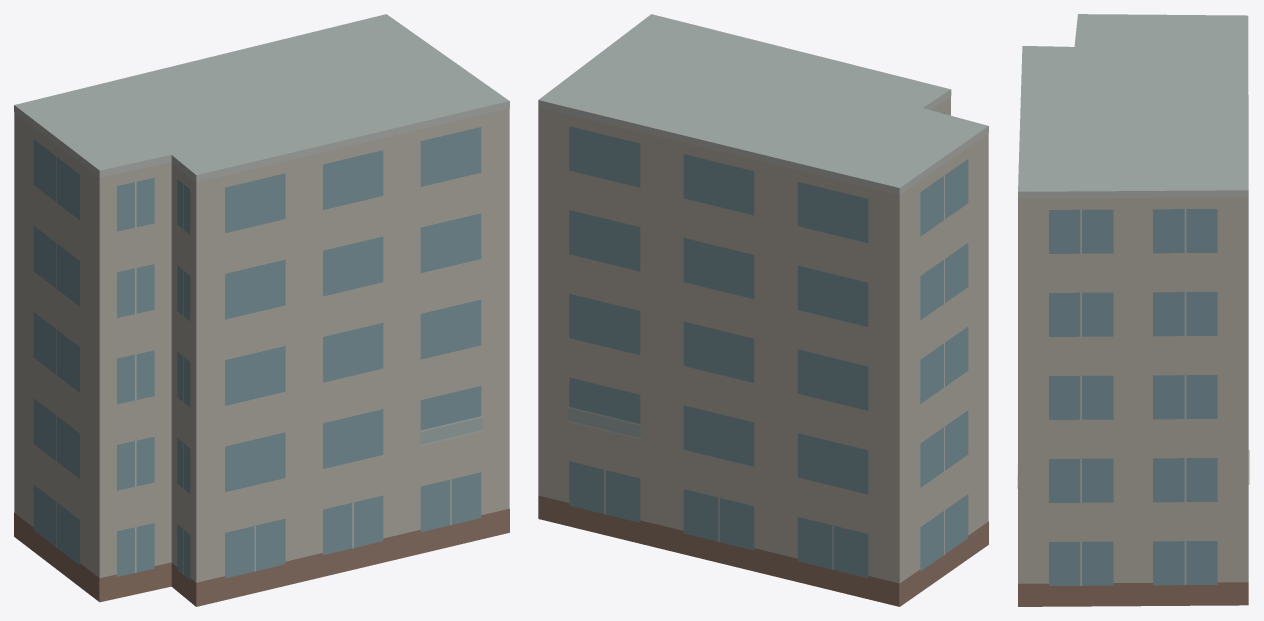
Rendered from survey-upis-32915491.glb.
3 renders of one model, left to right at view 1: azimuth 30°, elevation 25°; view 2: azimuth 150°, elevation 25°; view 3: azimuth 270°, elevation 25°, orthographic. The views are drawn at different scales.
Parts seen in each view (by area): view 1: survey-upis-32915491.tmp; view 2: survey-upis-32915491.tmp; view 3: survey-upis-32915491.tmp.
Part boxes in pixels (x1=…): survey-upis-32915491.tmp: x1=14, y1=14, x2=509, y2=606; survey-upis-32915491.tmp: x1=538, y1=14, x2=988, y2=606; survey-upis-32915491.tmp: x1=1017, y1=14, x2=1249, y2=606.
Bounding box in the file's own units: 13.33 × 14.5 × 7.37.
